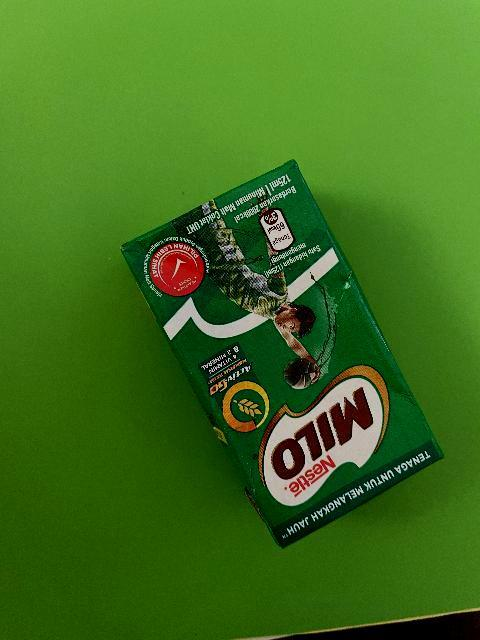drinkpack: (120, 155, 446, 550)
